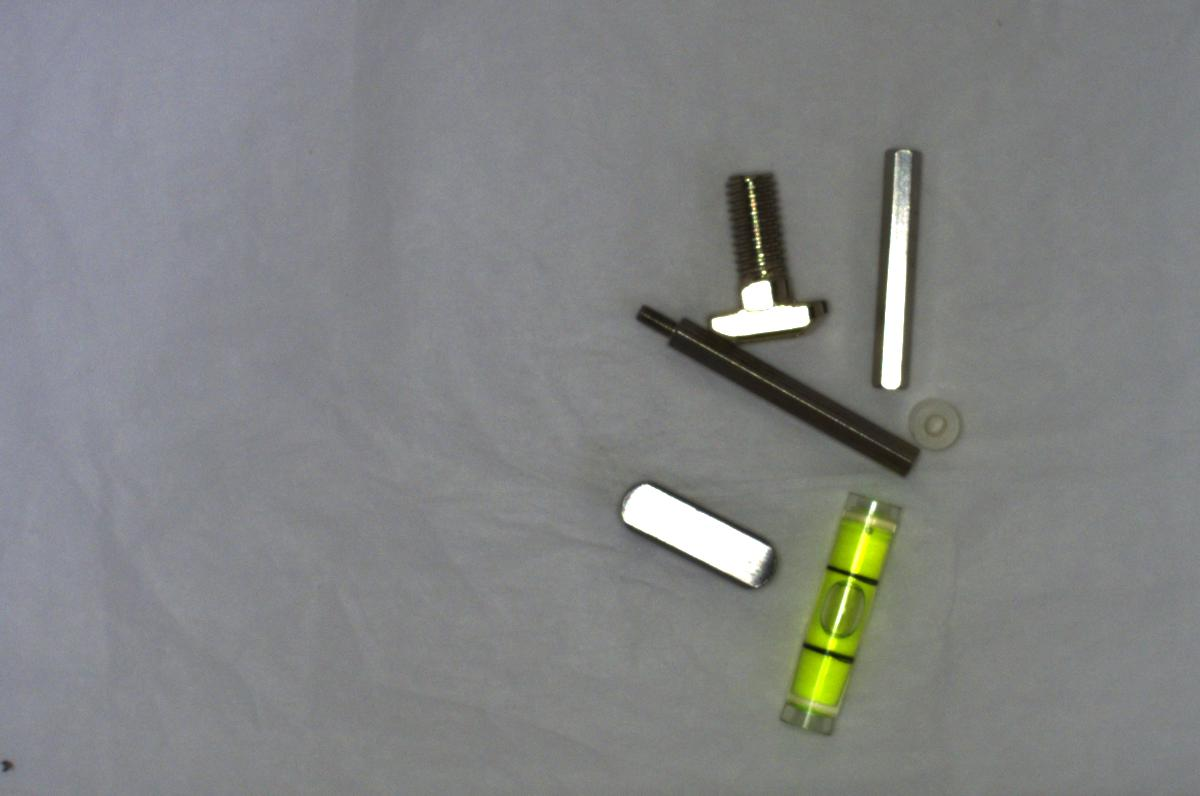Double hexagonal column: (850, 141, 928, 395)
Hexagonal steel column: (626, 299, 926, 476)
Horizontal bubble: (778, 486, 906, 741)
Keybar: (601, 470, 786, 593)
Plastic cushion pillar: (901, 393, 962, 456)
T-shaped screw: (704, 162, 824, 347)
